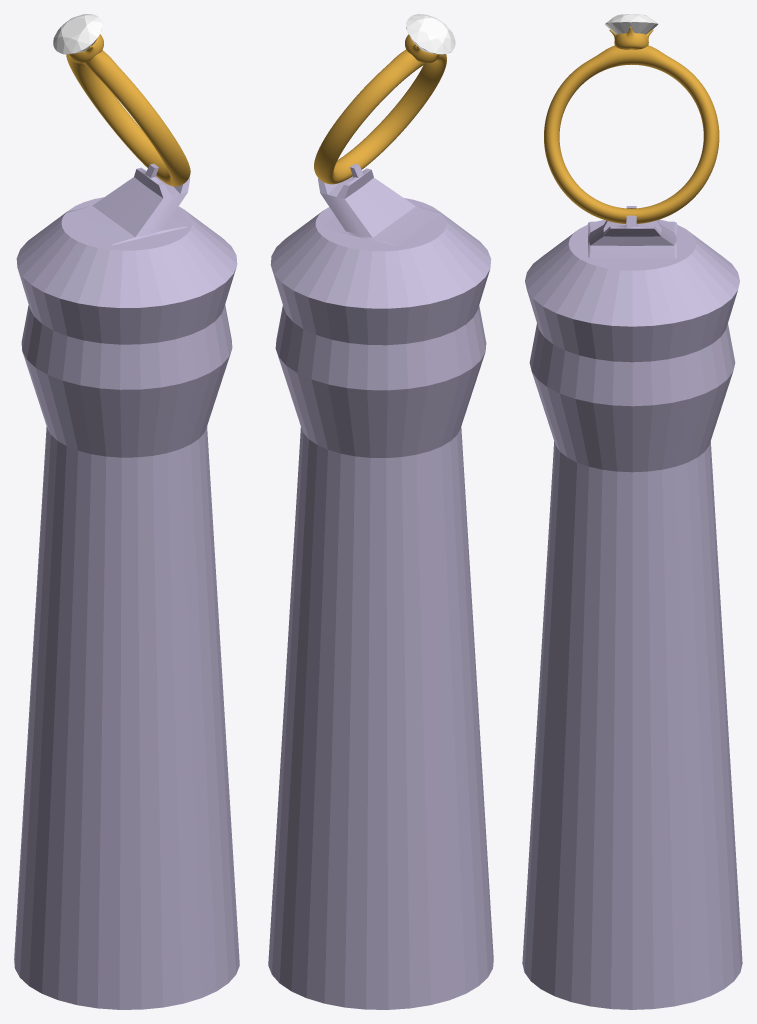
File: ring.fbx
3 renders of one model, left to right at view 1: azimuth 30°, elevation 25°; view 2: azimuth 150°, elevation 25°; view 3: azimuth 270°, elevation 25°, orthographic. The views are drawn at different scales.
Parts seen in each view (by area): view 1: Ring_Stand, Ring, Diamond; view 2: Ring_Stand, Ring, Diamond; view 3: Ring_Stand, Ring, Diamond, Prong.
Part boxes in pixels (box(x1,y1,x2,y2)): Ring_Stand: box(14, 163, 239, 1009); Ring: box(66, 50, 190, 186); Diamond: box(53, 14, 102, 54); Ring_Stand: box(268, 163, 493, 1009); Ring: box(314, 50, 446, 184); Diamond: box(406, 14, 455, 54); Ring_Stand: box(522, 206, 742, 1009); Ring: box(544, 45, 719, 223); Diamond: box(605, 14, 658, 34); Prong: box(609, 26, 653, 49).
Bounding box in the file's own units: 27.94 × 130 × 27.94.
